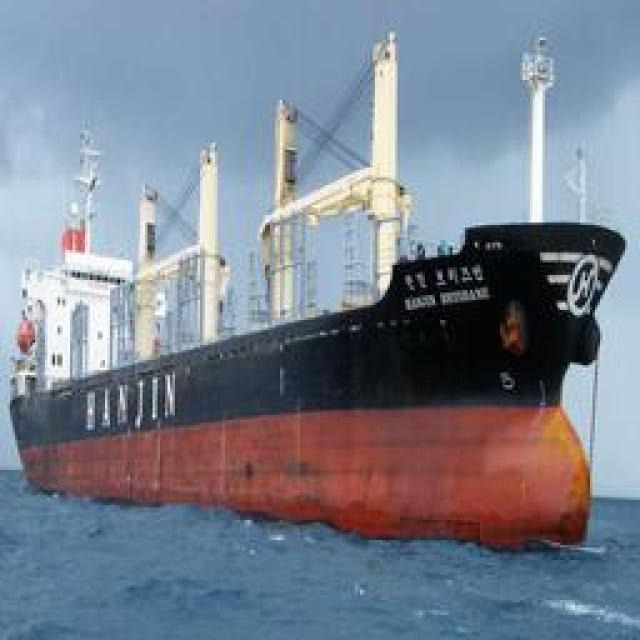ship2: (8, 31, 626, 550)
